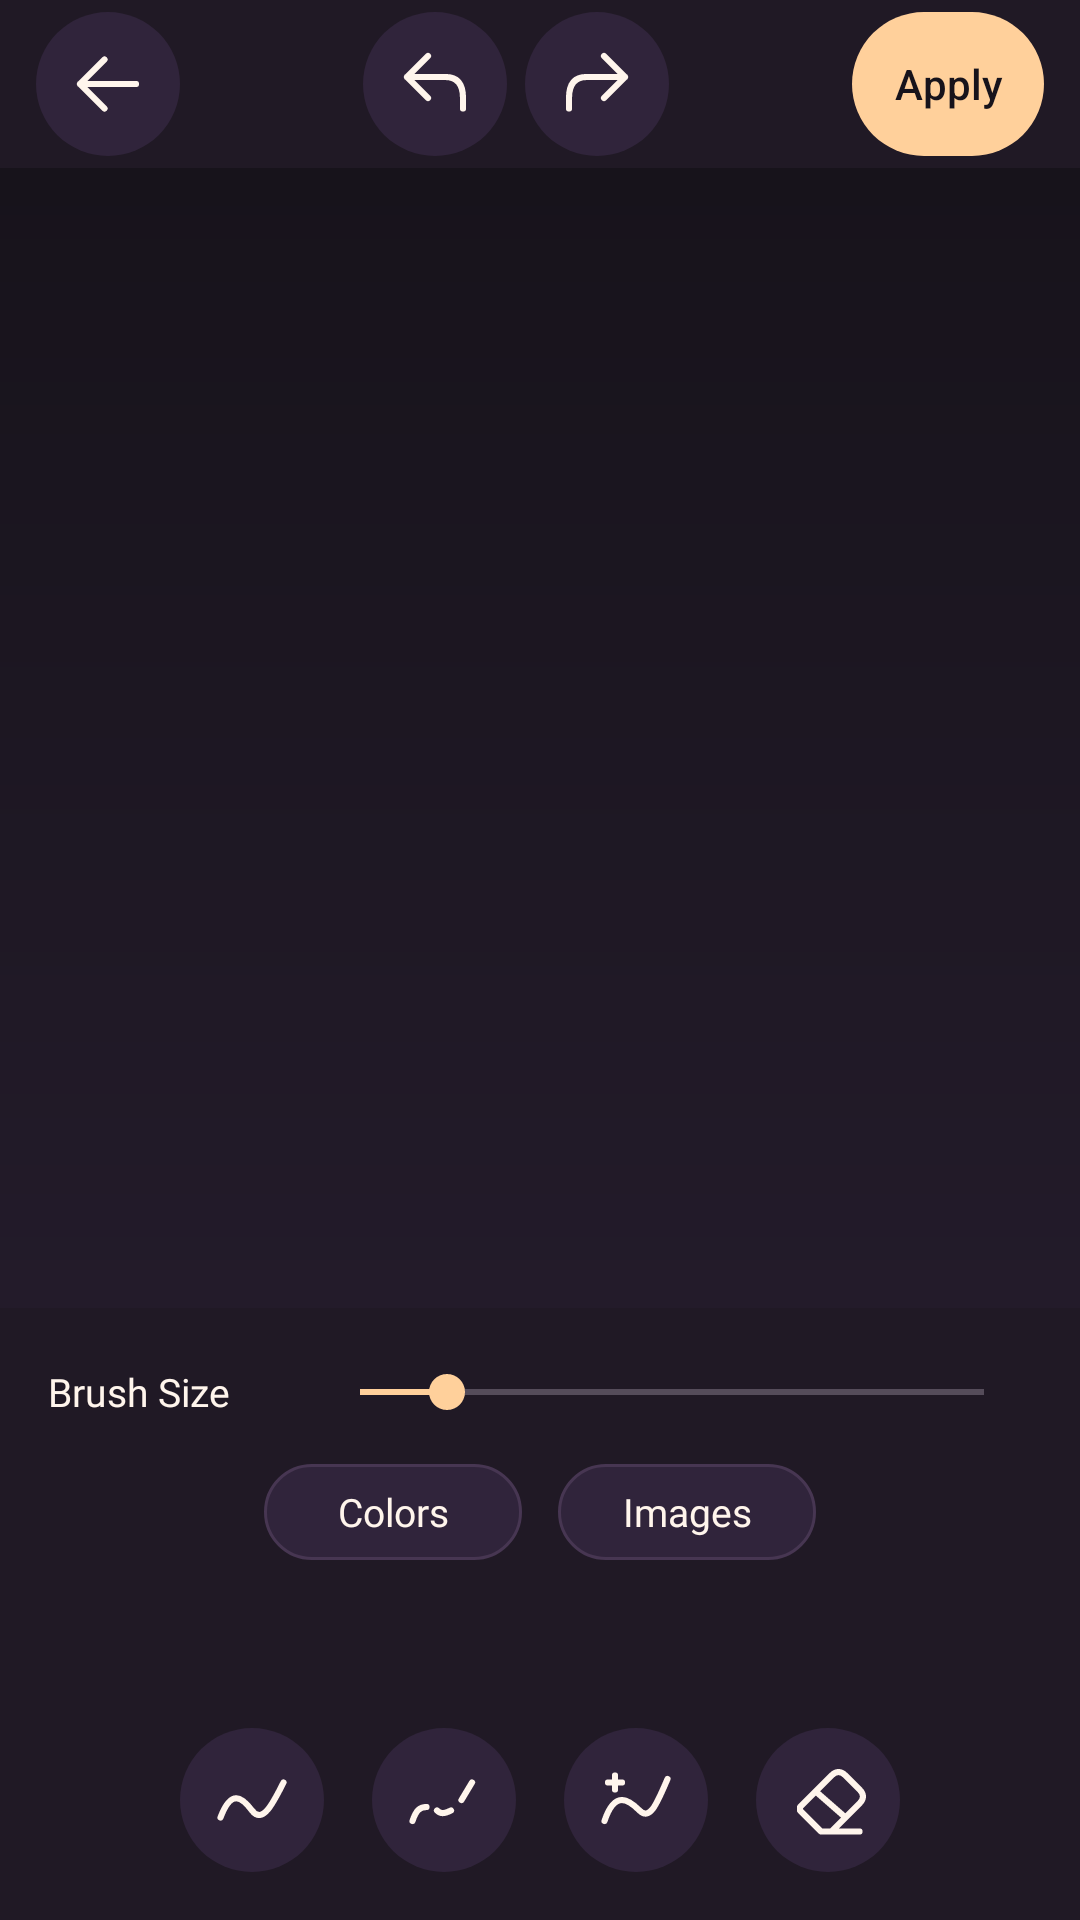

Icon bounding boxes for this 1080px×1920px phone screenshot, format (x1, y1, x2, y2):
Back: (36, 12, 180, 156)
Dash brush: (372, 1728, 516, 1872)
Eraser: (756, 1728, 900, 1872)
Line brush: (180, 1728, 324, 1872)
Neon brush: (564, 1728, 708, 1872)
Redo: (525, 12, 669, 156)
Undo: (363, 12, 507, 156)
